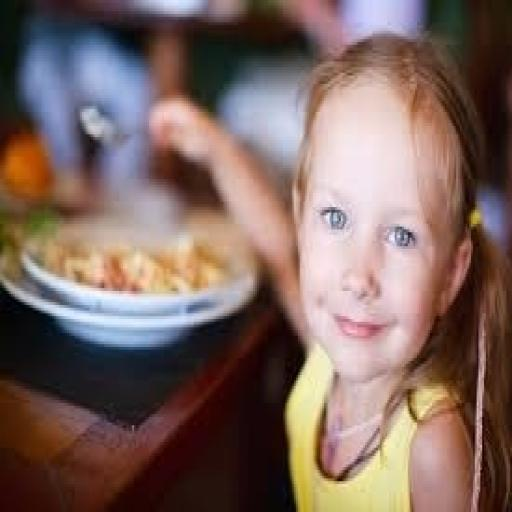eating: (145, 25, 510, 509)
